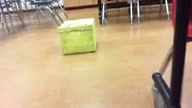cube: (58, 18, 95, 55)
